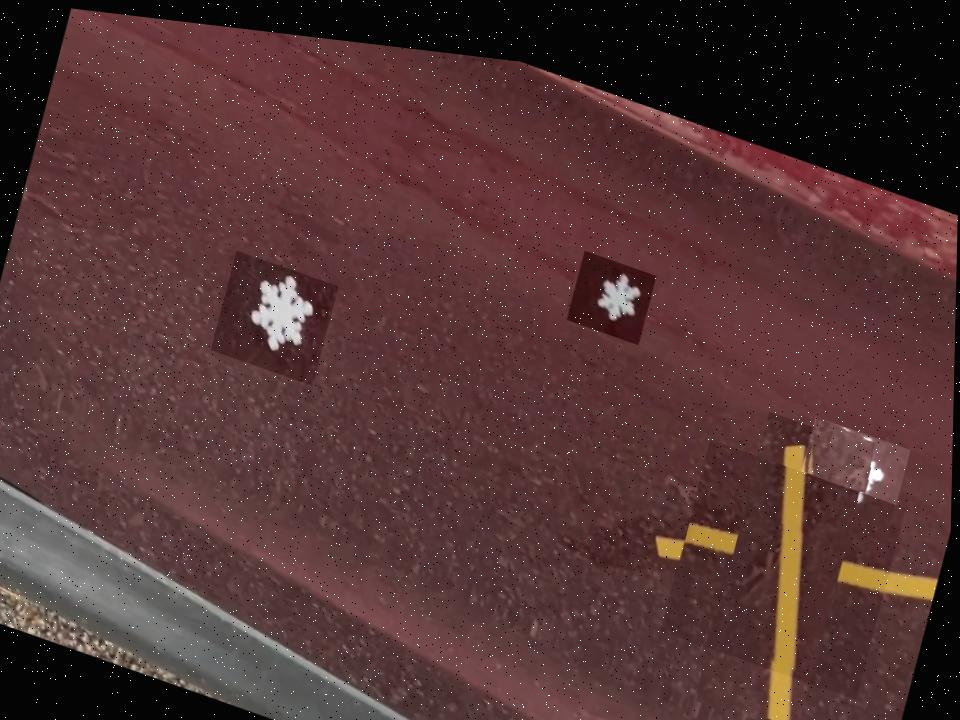dent: (210, 243, 338, 380), (791, 395, 911, 524), (566, 234, 656, 330)
scratch: (662, 417, 908, 682)
